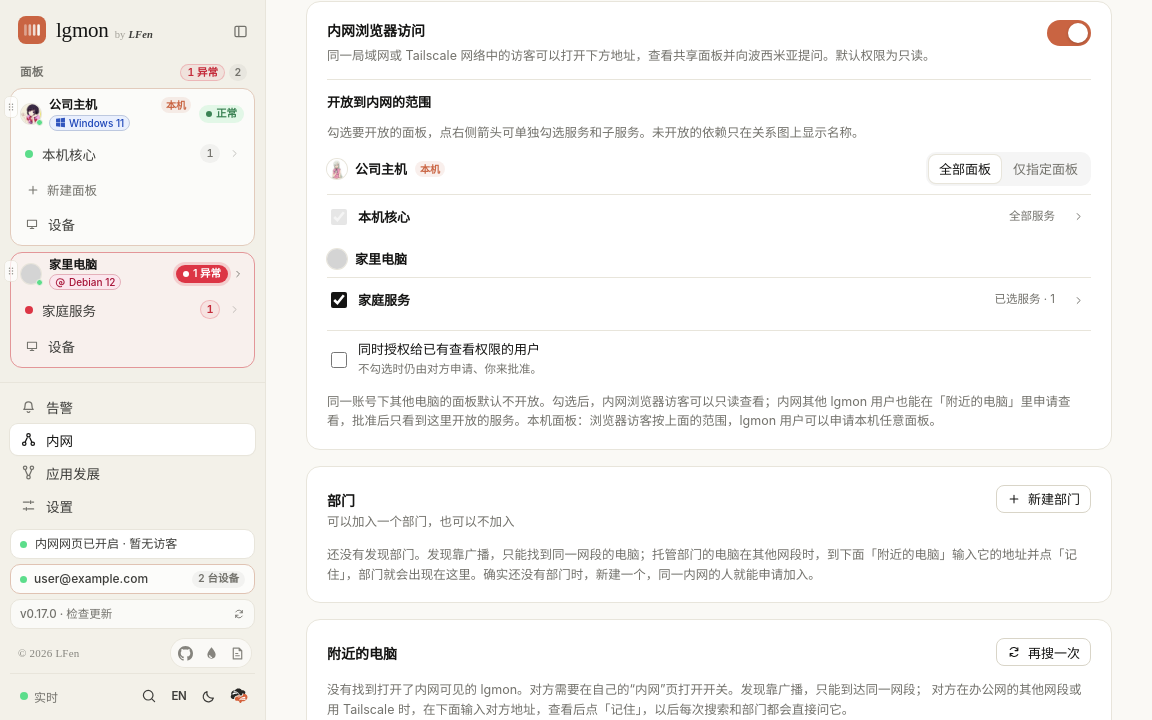
Test: gives a newly opened board to chosen existing viewers in one confirmed step
This screenshot has width=1152, height=720.
(page scrolled)
Click the checkbox labelled "同时授权给已有查看权限的用户 不勾选时仍由对方申请、你来批准。" at {"x": 339, "y": 360}, box [331,341,347,379]
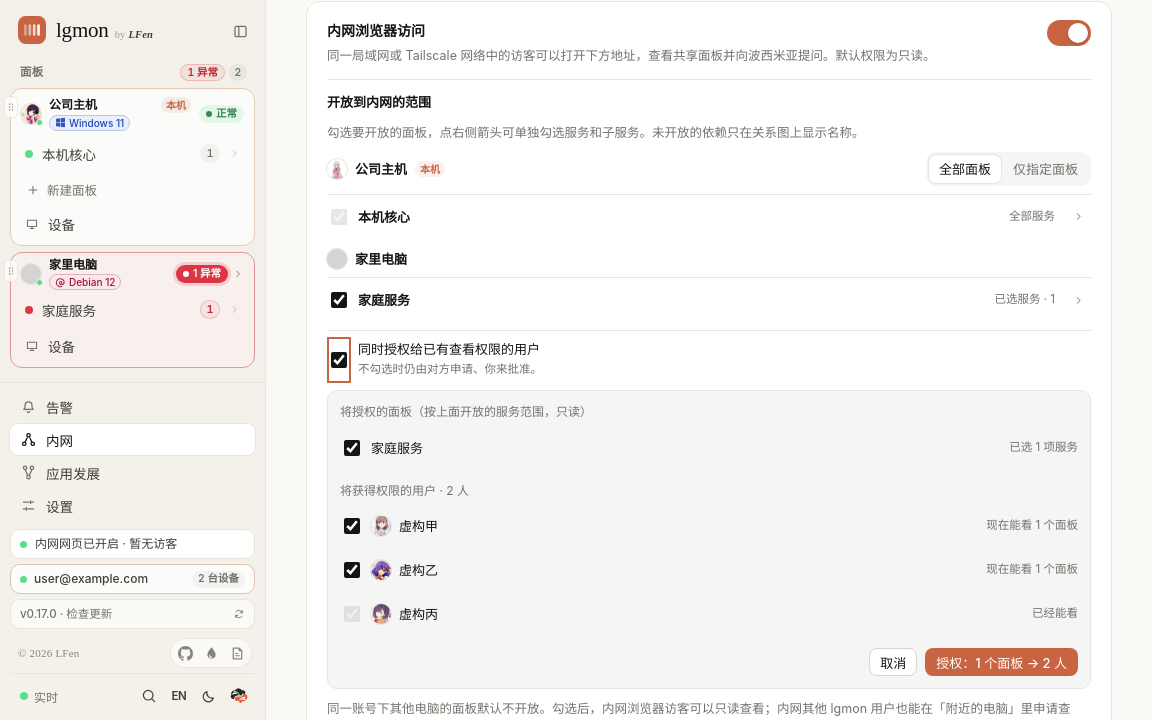
Click the checkbox labelled "虚构乙 现在能看 1 个面板" at {"x": 352, "y": 570}, box [344,551,360,589]
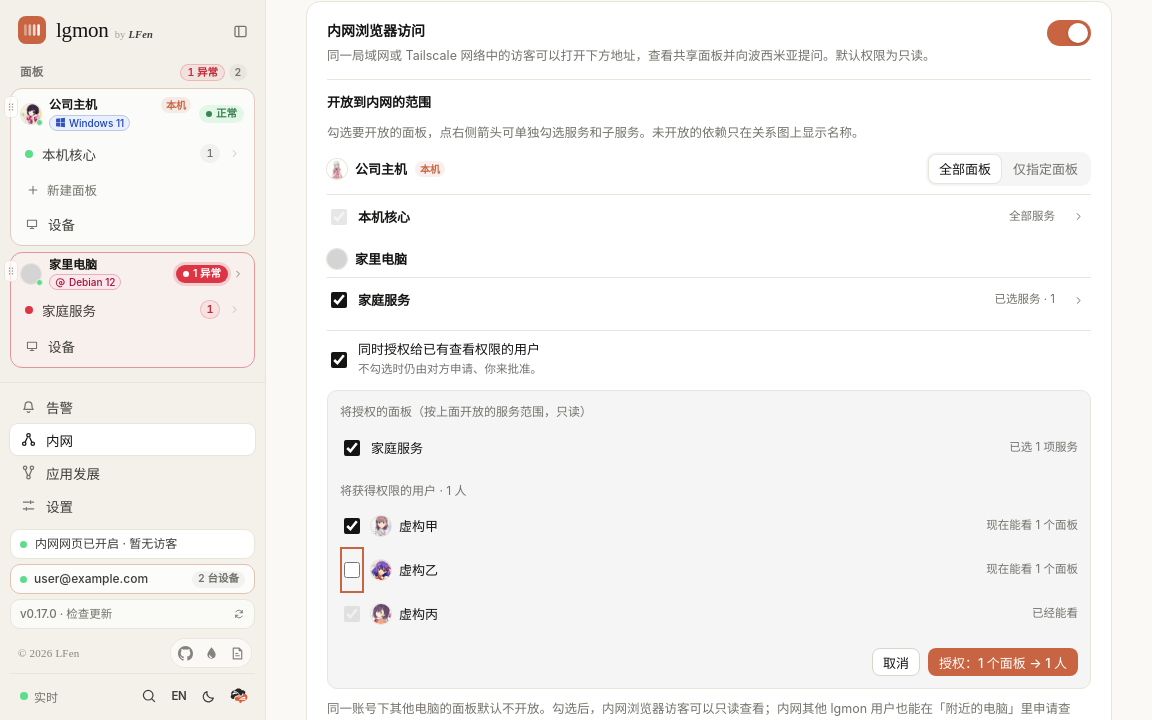
Click the button "授权：1 个面板 → 1 人" at {"x": 1003, "y": 662}, box [928,648,1078,676]
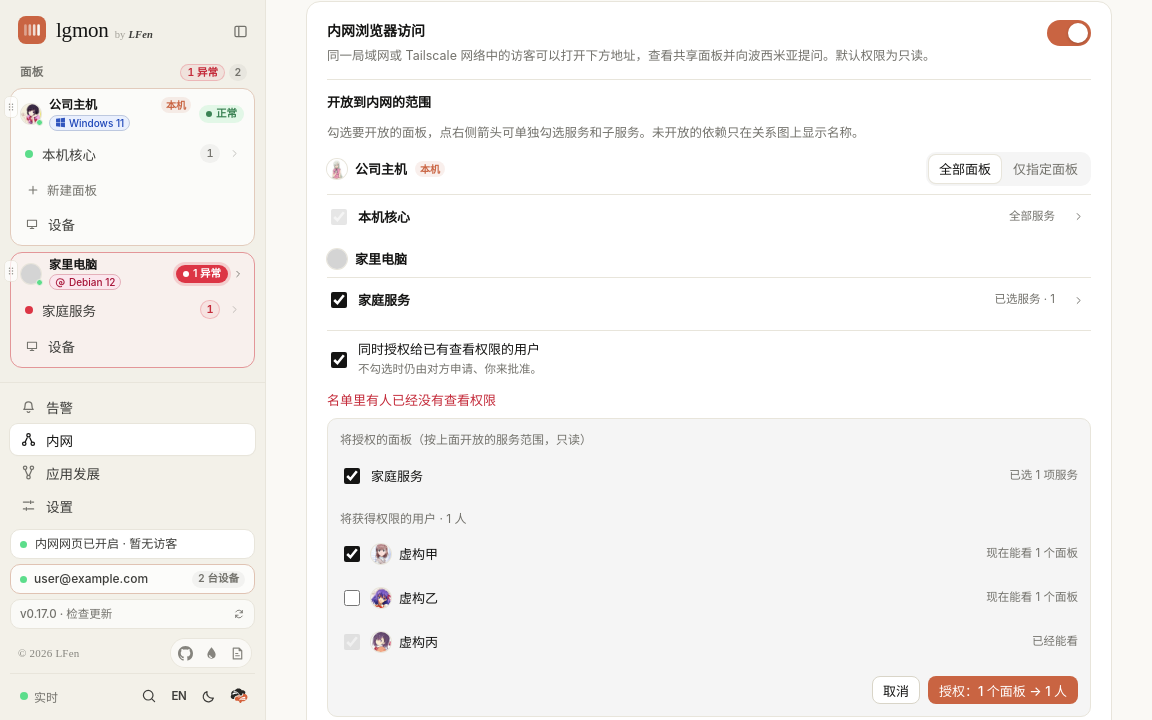
Result: the message reads "名单里有人已经没有查看权限" at [327,392,496,408]
Click the button "授权：1 个面板 → 1 人" at {"x": 1003, "y": 690}, box [928,676,1078,704]
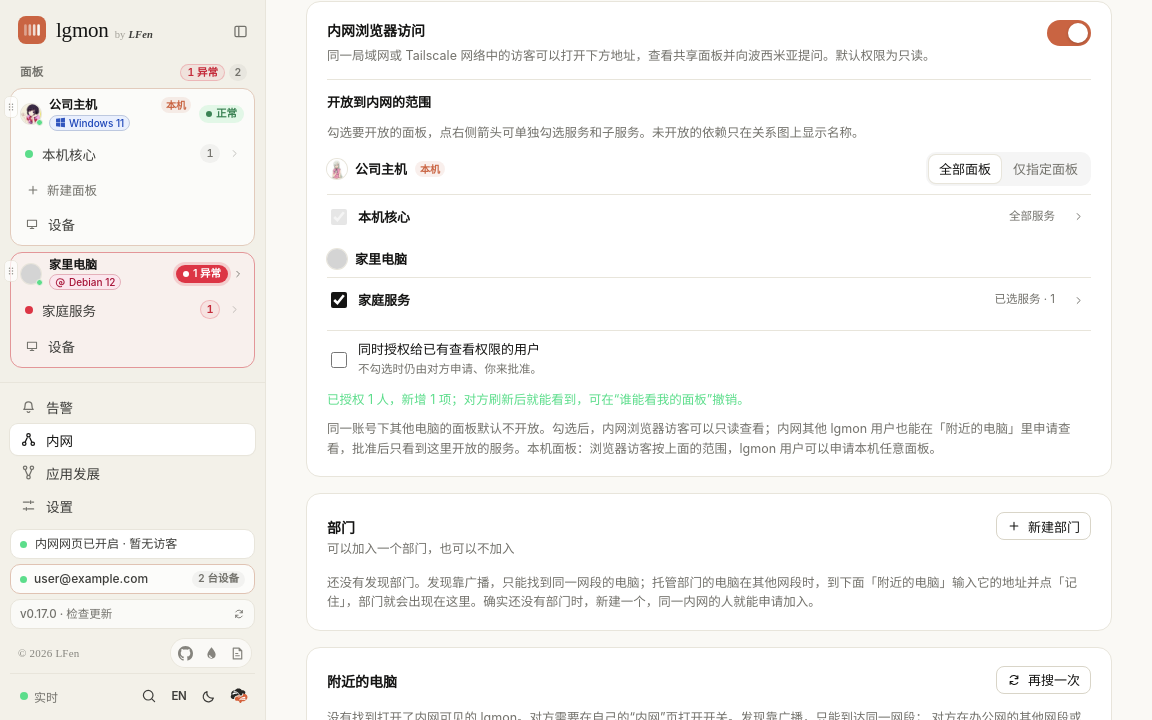
Result: the checkbox labelled "同时授权给已有查看权限的用户 不勾选时仍由对方申请、你来批准。" is not checked at [331,341,347,379]
Result: the message shows "已授权 1 人，新增 1 项" at [327,392,750,407]
